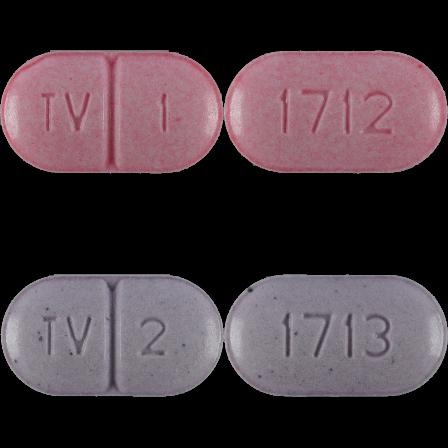0093-1712: (0, 0, 224, 224)
